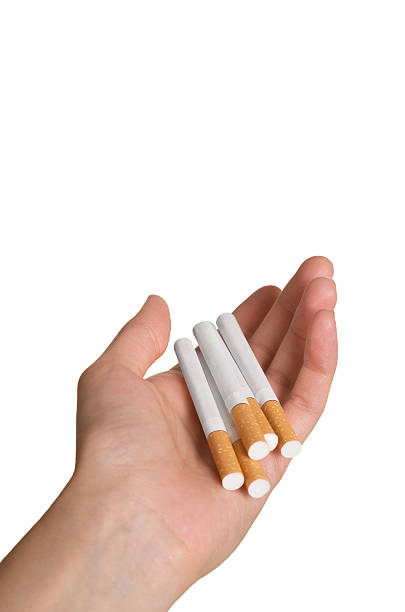cigarette: (214, 312, 303, 460), (194, 350, 271, 500), (191, 319, 271, 463), (171, 337, 245, 492), (231, 355, 282, 455)
